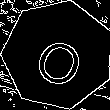O_NE: (26, 23, 89, 87)
